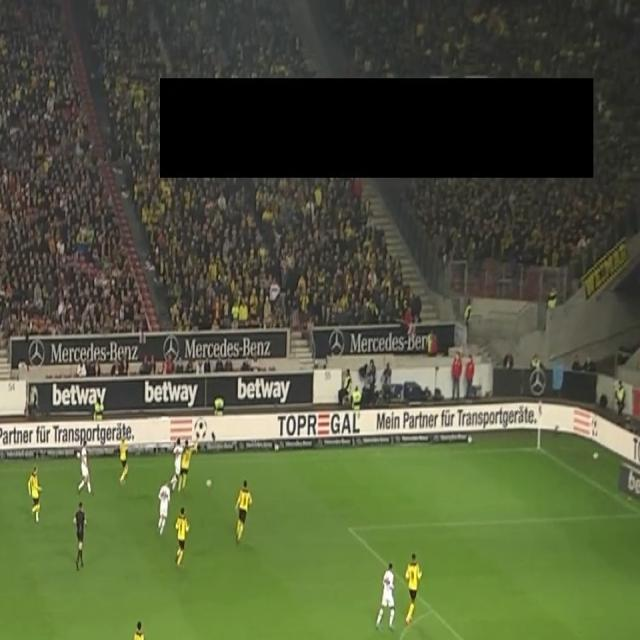ball: (205, 477, 212, 490)
